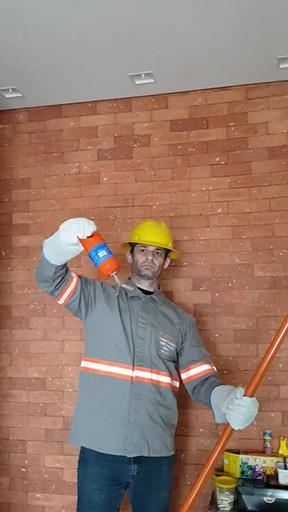Detector_Tensao_Contato: (77, 229, 134, 298)
